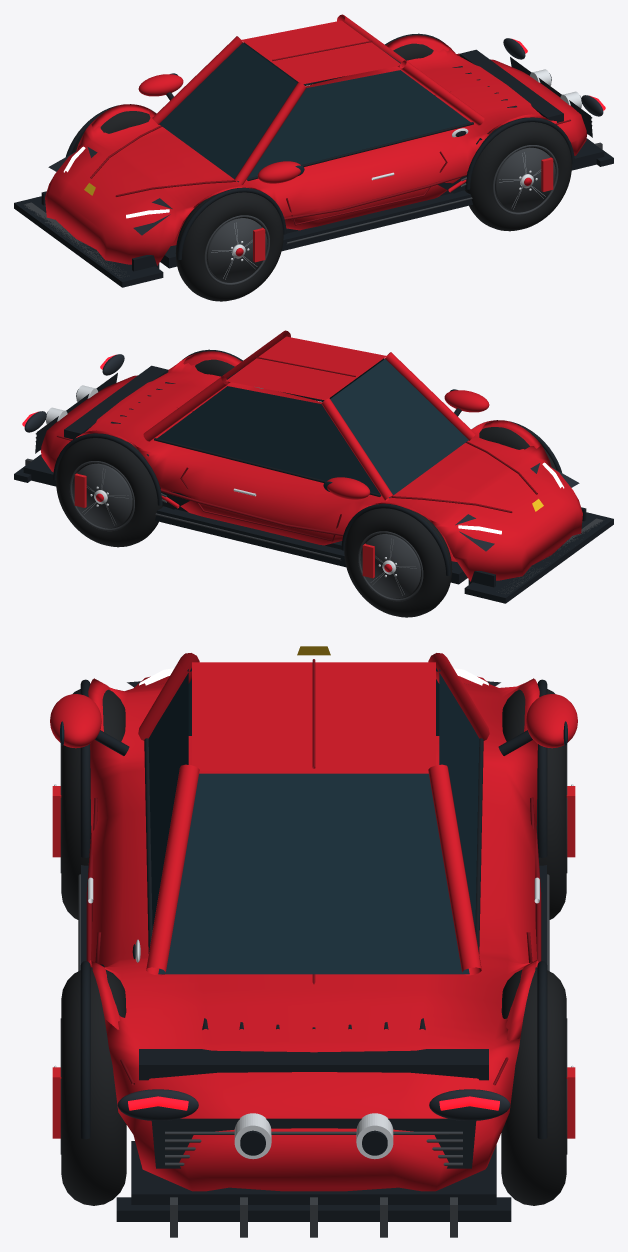
3 renders of one model, top to bottom at view 1: azimuth 30°, elevation 25°; view 2: azimuth 150°, elevation 25°; view 3: azimuth 270°, elevation 25°, orthographic. The views are drawn at different scales.
Parts seen in each view (by area): view 1: LAFERRARI | sculpted main body, Side window | left, Windscreen | smoked glass, Canopy | red roof panel, Front Left | performance tire, Rear Left | performance tire, Carbon side skirt, Rear Left | wheel barrel, Front Left | wheel barrel, Front splitter | main carbon blade, Rear active aero lip, A-pillar | red (+20 smaller); view 2: LAFERRARI | sculpted main body, Side window | right, Windscreen | smoked glass, Canopy | red roof panel, Front Right | performance tire, Rear Right | performance tire, Carbon side skirt.001, Front splitter | main carbon blade, Rear Right | wheel barrel, Front Right | wheel barrel, Rear active aero lip, A-pillar | red.001 (+19 smaller); view 3: LAFERRARI | sculpted main body, Rear canopy glass, Canopy | red roof panel, Rear Left | performance tire, Rear Right | performance tire, Rear active aero lip, Rear diffuser | main tray, Rear diffuser trailing edge, Side window | left, Side window | right, Rear grille | dark mesh panel, Front Left | performance tire (+18 smaller).
Part boxes in pixels (x1,y1,x2,y2): LAFERRARI | sculpted main body: (45, 35, 587, 265); Side window | left: (246, 70, 470, 179); Windscreen | smoked glass: (159, 43, 297, 182); Canopy | red roof panel: (241, 20, 401, 84); Front Left | performance tire: (175, 192, 283, 301); Rear Left | performance tire: (464, 117, 571, 231); Carbon side skirt: (281, 190, 472, 251); Rear Left | wheel barrel: (495, 147, 555, 212); Front Left | wheel barrel: (207, 218, 267, 282); Front splitter | main carbon blade: (14, 196, 163, 287); Rear active aero lip: (459, 49, 563, 122); A-pillar | red: (234, 82, 306, 184); LAFERRARI | sculpted main body: (40, 351, 582, 581); Side window | right: (157, 386, 381, 495); Windscreen | smoked glass: (330, 359, 468, 498); Canopy | red roof panel: (226, 336, 386, 400); Front Right | performance tire: (344, 508, 452, 617); Rear Right | performance tire: (56, 433, 163, 547); Carbon side skirt.001: (155, 506, 346, 567); Front splitter | main carbon blade: (464, 512, 613, 603); Rear Right | wheel barrel: (72, 463, 132, 528); Front Right | wheel barrel: (360, 534, 420, 598); Rear active aero lip: (64, 365, 168, 439); A-pillar | red.001: (321, 398, 393, 500); LAFERRARI | sculpted main body: (88, 676, 539, 1191); Rear canopy glass: (158, 773, 469, 974); Canopy | red roof panel: (192, 662, 435, 770); Rear Left | performance tire: (61, 967, 126, 1205); Rear Right | performance tire: (501, 967, 566, 1205); Rear active aero lip: (139, 1049, 488, 1080); Rear diffuser | main tray: (131, 1141, 496, 1204); Rear diffuser trailing edge: (116, 1197, 511, 1221); Side window | left: (148, 669, 188, 929); Side window | right: (439, 669, 479, 929); Rear grille | dark mesh panel: (151, 1118, 476, 1168); Front Left | performance tire: (61, 689, 125, 919).
Size of what is drawn, in the model's own units: 5.1 by 1.72 by 2.34.
